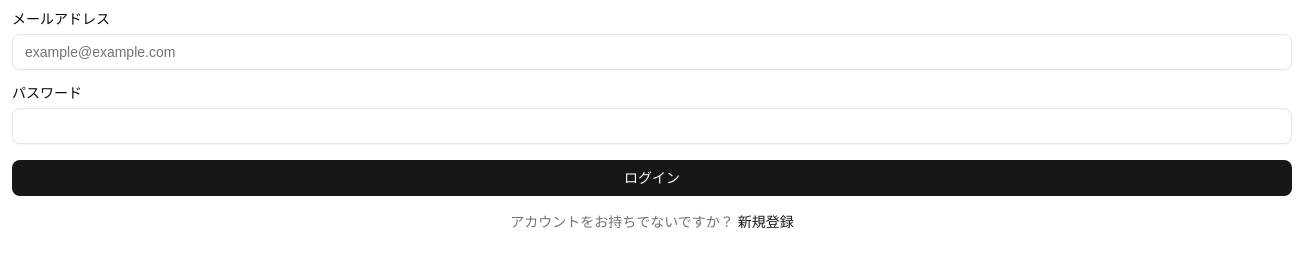
Test: LoginForm › should show validation error for empty password
The image size is (1304, 274).
Type "test@example.com" into the field labelled "メールアドレス" at (652, 52), box [12,34,1292,70]
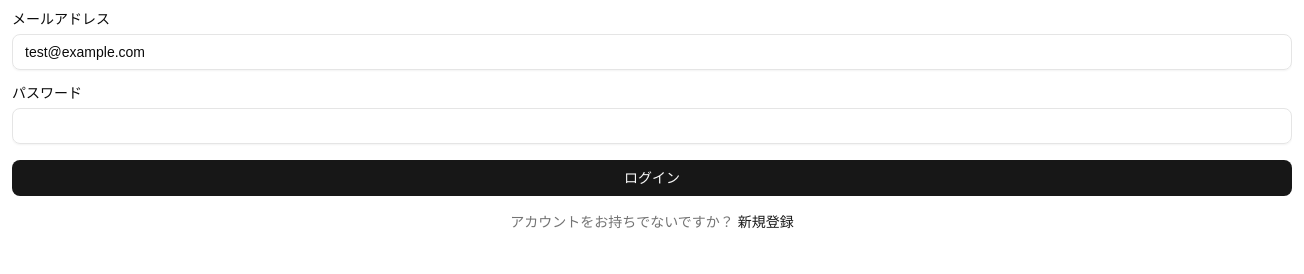
Click the button "ログイン" at (652, 178), box [12,160,1292,196]
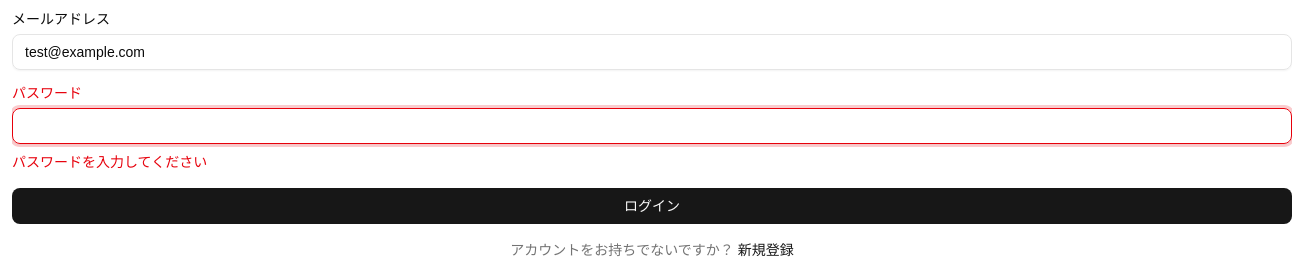
Check: the text "パスワードを入力してください" is shown, box [12,154,207,170]
